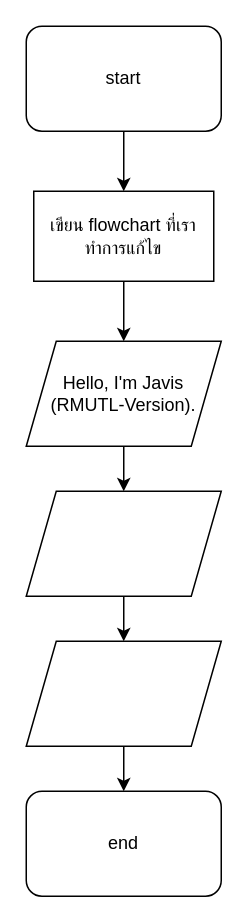
This 248x923 diagram has some shape labels left out. Here are the shapes that lost their labels. From the top down, the box of each, then its label:
(25, 490, 221, 596): This is my first time to coding with C language.
(25, 640, 221, 746): Today is my birthday.
